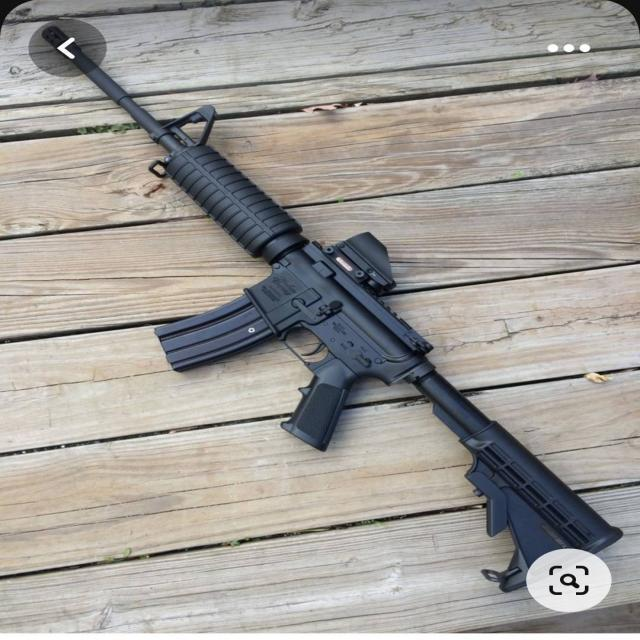m16: (69, 100, 579, 498)
